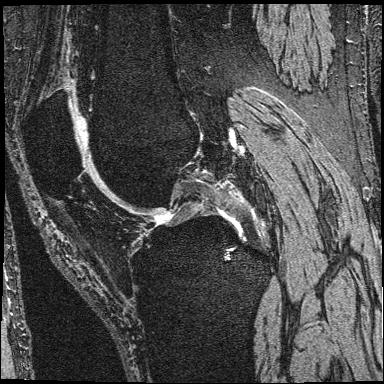SagKneeJointArea: (20, 88, 273, 318)
